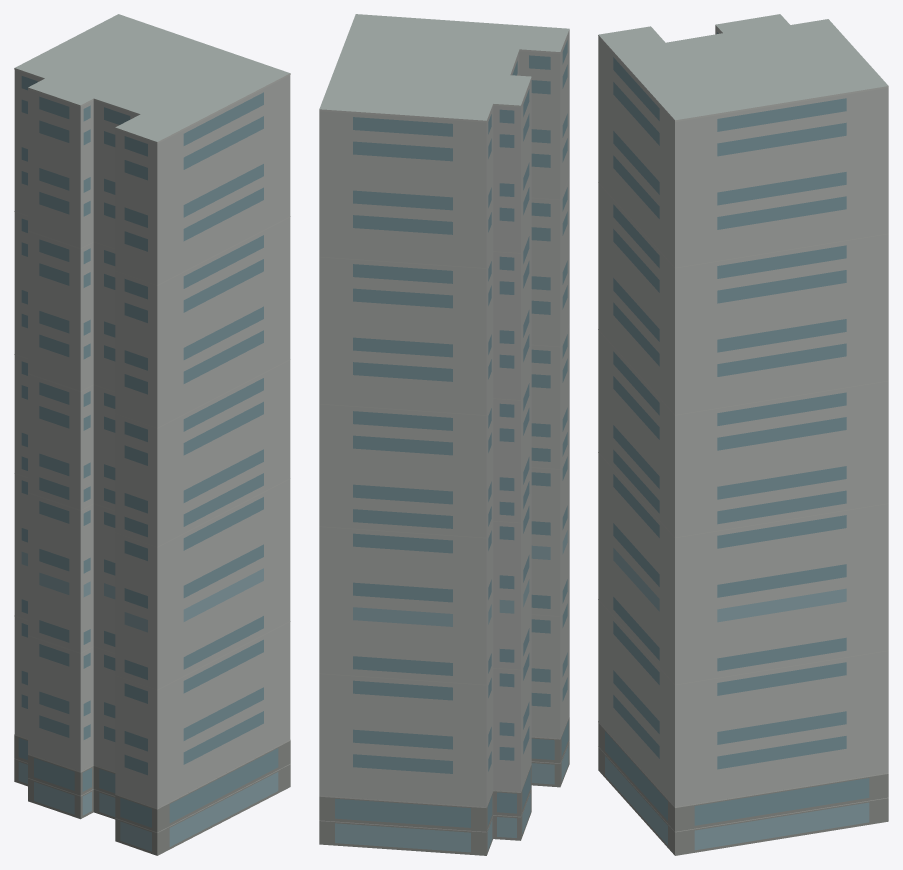
Rendered from residential-cbd23e00-706e-42d2-8ac5-33eebf72b8b6.glb.
3 views of the same model, side by side, from view 1: azimuth 30°, elevation 25°; view 2: azimuth 150°, elevation 25°; view 3: azimuth 270°, elevation 25° (orthographic). The views are drawn at different scales.
Visible parts, largest first — view 1: residential-cbd23e00-706e-42d2-8ac5-33eebf72b8b6.tmp; view 2: residential-cbd23e00-706e-42d2-8ac5-33eebf72b8b6.tmp; view 3: residential-cbd23e00-706e-42d2-8ac5-33eebf72b8b6.tmp.
Part boxes in pixels (<box>): residential-cbd23e00-706e-42d2-8ac5-33eebf72b8b6.tmp: <box>14,14,290,855</box>; residential-cbd23e00-706e-42d2-8ac5-33eebf72b8b6.tmp: <box>319,14,569,855</box>; residential-cbd23e00-706e-42d2-8ac5-33eebf72b8b6.tmp: <box>598,14,888,855</box>.
Size of the model in its own units: 30.4 by 98 by 35.1.
